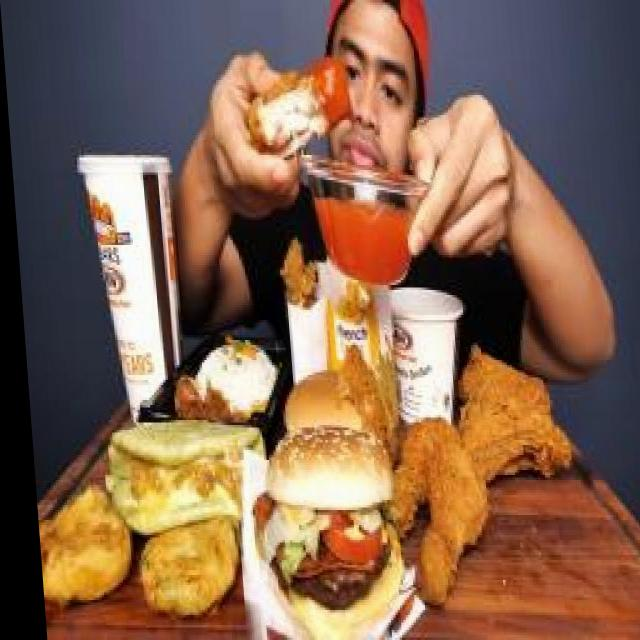AW cola: (68, 140, 203, 423)
black pepper rice bowl: (158, 303, 273, 426)
cheese burger: (273, 347, 365, 455)
chicken waffle: (270, 220, 337, 373)
crispy corn: (359, 280, 493, 428)
fried chicken: (370, 350, 574, 583), (242, 28, 368, 178), (324, 320, 396, 448)
mango chicken pocket: (95, 400, 271, 533)
mozza burger: (242, 380, 405, 640)
perkedel: (28, 483, 135, 608), (124, 503, 234, 613)
